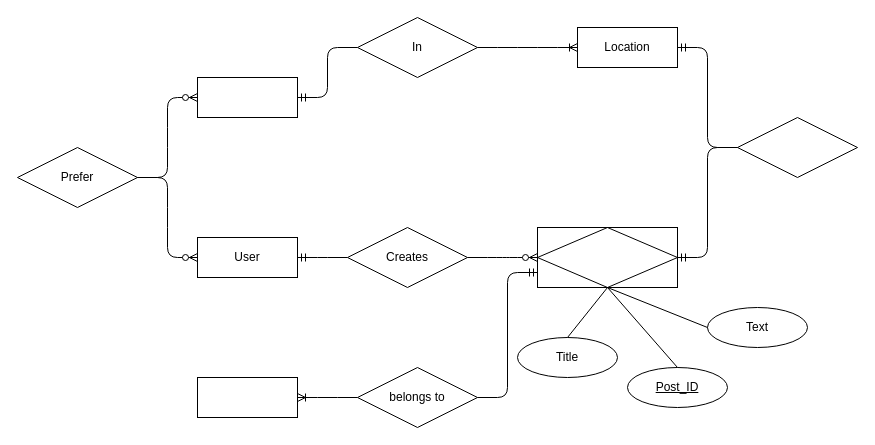
Some shapes in this 875 by 445 pixel diagram are drawn without their labels. The centre of each missing label's shape, as x and y in pixels:
"Category" goes at [247,397].
"Located In" goes at [797,147].
"Post" goes at [607,257].
"Region" goes at [247,97].
